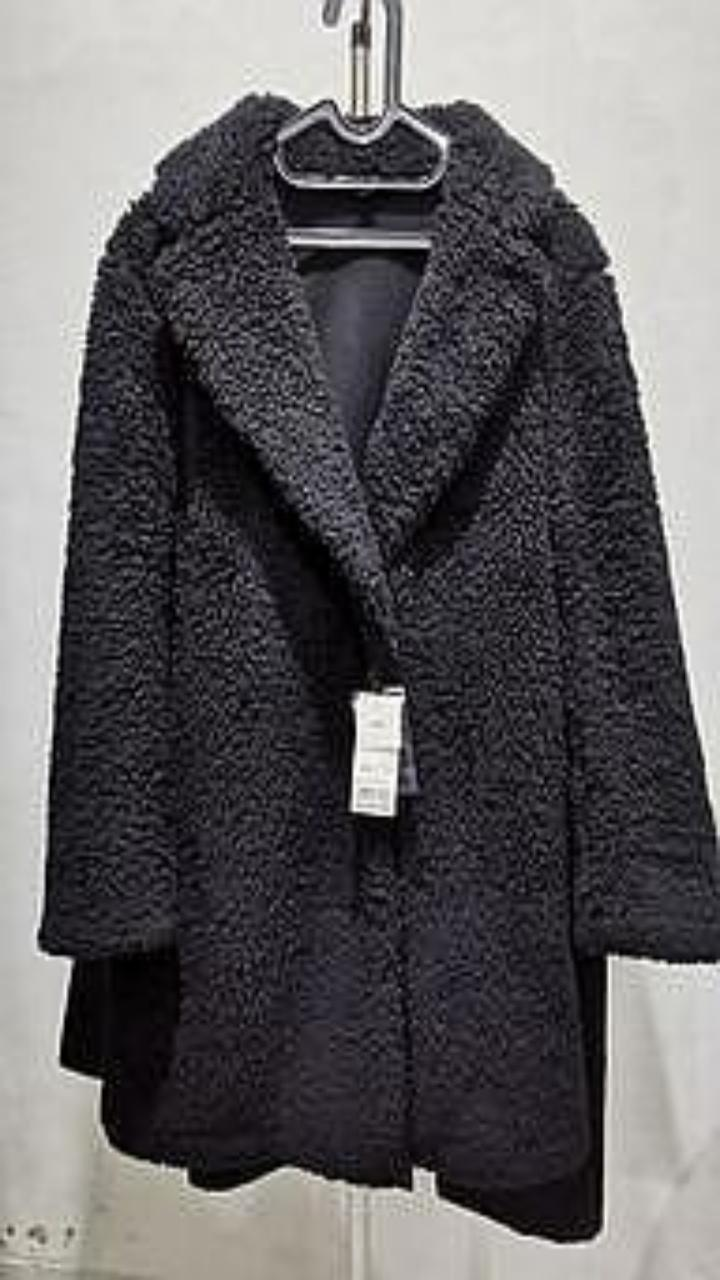Coat: (38, 94, 719, 1239)
